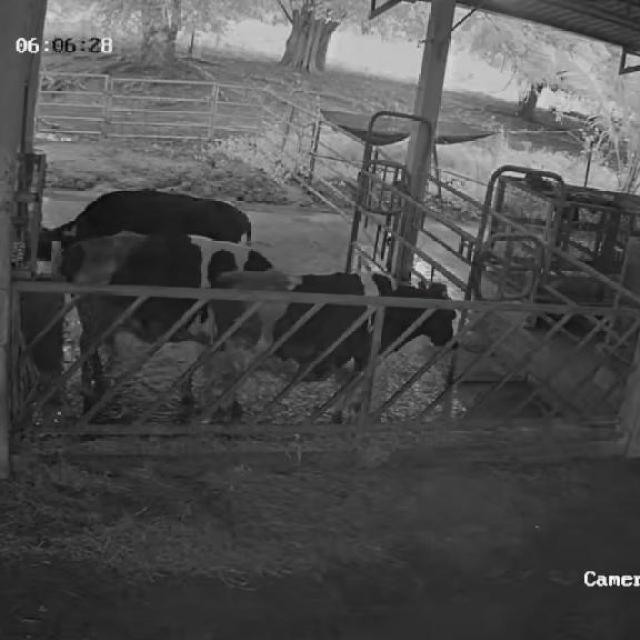drinking: (17, 186, 252, 271)
standing: (49, 231, 298, 429), (199, 271, 462, 418)
